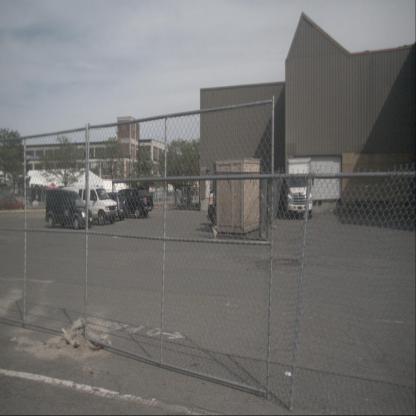vehicle-car: (60, 186, 118, 226), (44, 188, 93, 230), (97, 192, 129, 222), (0, 195, 25, 211)
vehicle-truck: (286, 157, 313, 220), (109, 188, 153, 219)
